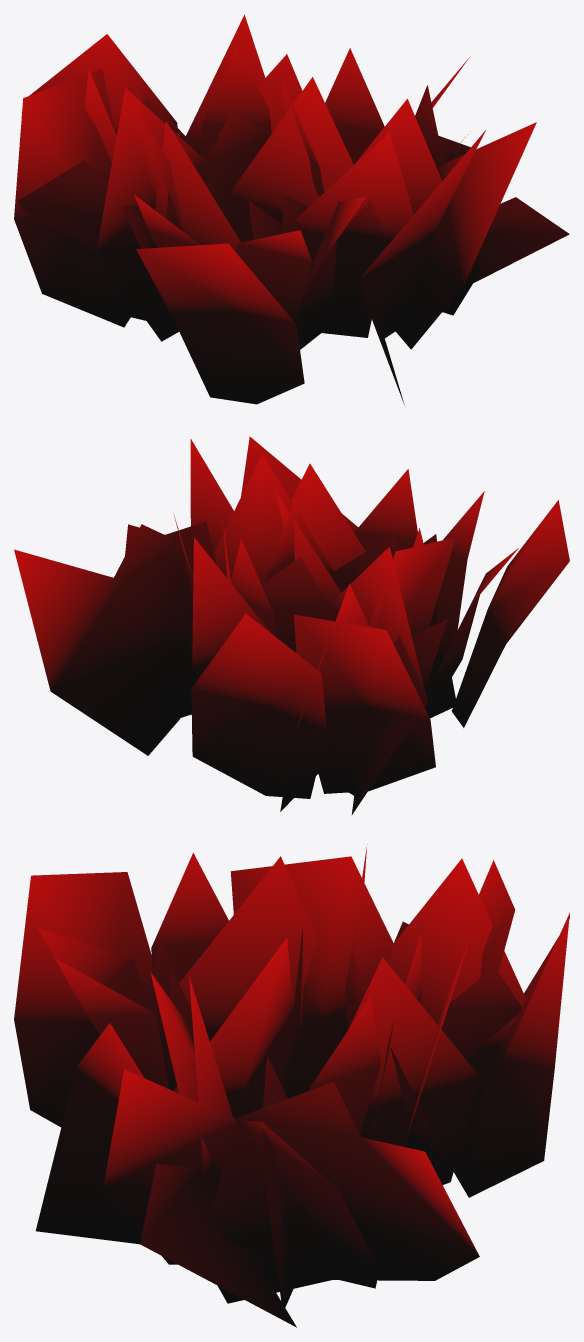
File: Jenny_3.fbx
The picture shows the model from 3 angles, top to bottom: view 1: azimuth 30°, elevation 25°; view 2: azimuth 150°, elevation 25°; view 3: azimuth 270°, elevation 25°; orthographic projection. The views are drawn at different scales.
Visible parts, largest first — view 1: Jenny_3; view 2: Jenny_3; view 3: Jenny_3.
Boxes of the visible parts, box(x1,y1,x2,y2) form: Jenny_3: box(14, 14, 569, 404); Jenny_3: box(14, 436, 569, 814); Jenny_3: box(14, 844, 569, 1327).
Size of the model in its own units: 133 by 71.71 by 116.
